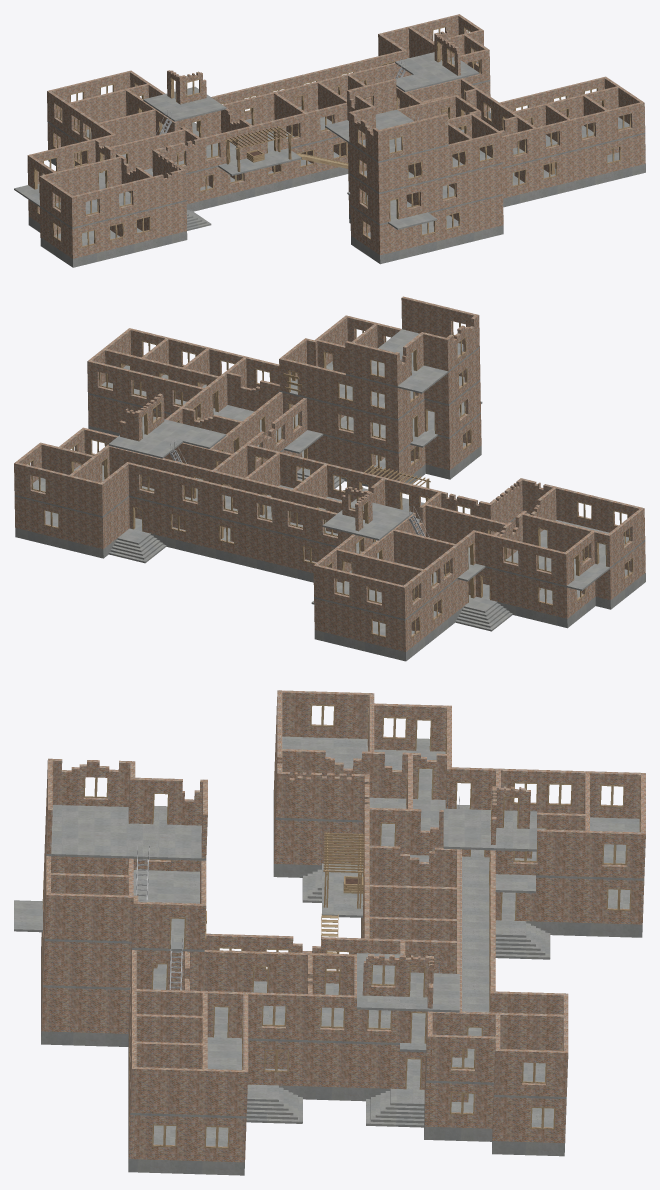
The model's file is construction_school.glb.
3 renders of one model, top to bottom at view 1: azimuth 30°, elevation 25°; view 2: azimuth 150°, elevation 25°; view 3: azimuth 270°, elevation 25°, orthographic. The views are drawn at different scales.
Size of the model in its own units: 56 by 14.55 by 39.07.
Materials: 9 (7 with a texture image).
